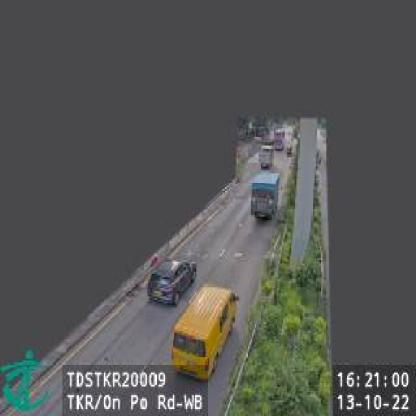Bus: (172, 282, 237, 381)
Car: (148, 254, 196, 306)
Truck: (252, 170, 279, 220), (259, 144, 273, 170)
